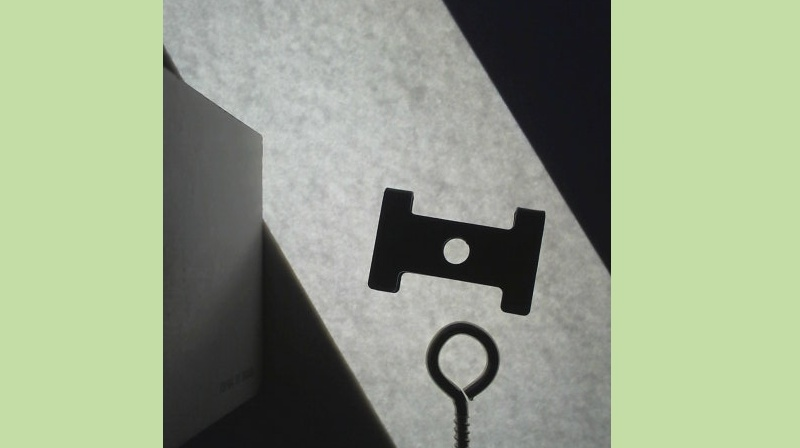O001: (421, 319, 503, 447)
O002: (366, 183, 544, 318)
